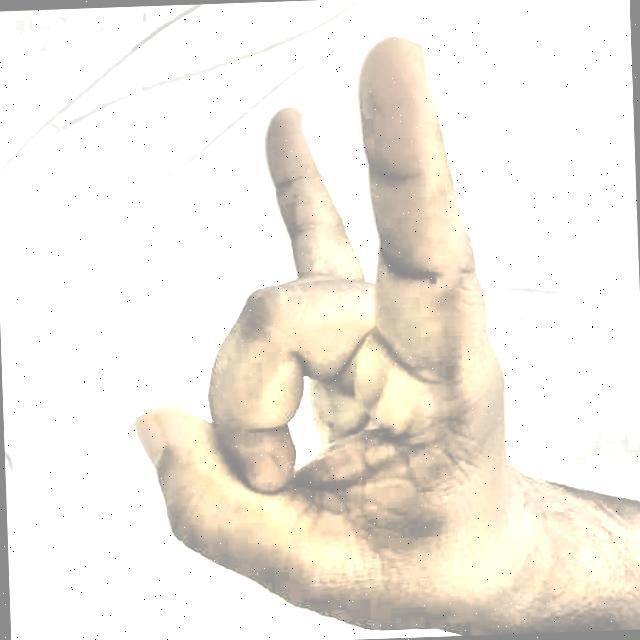Cha: (96, 12, 546, 640)
